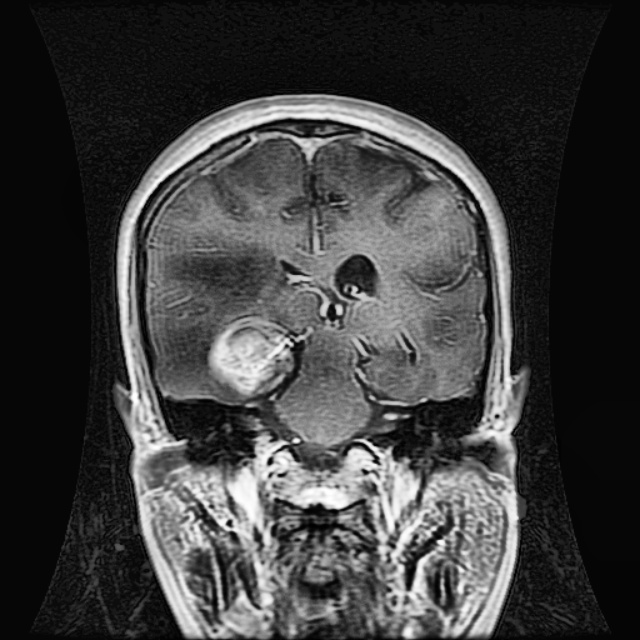Meningioma: (203, 313, 312, 407)
